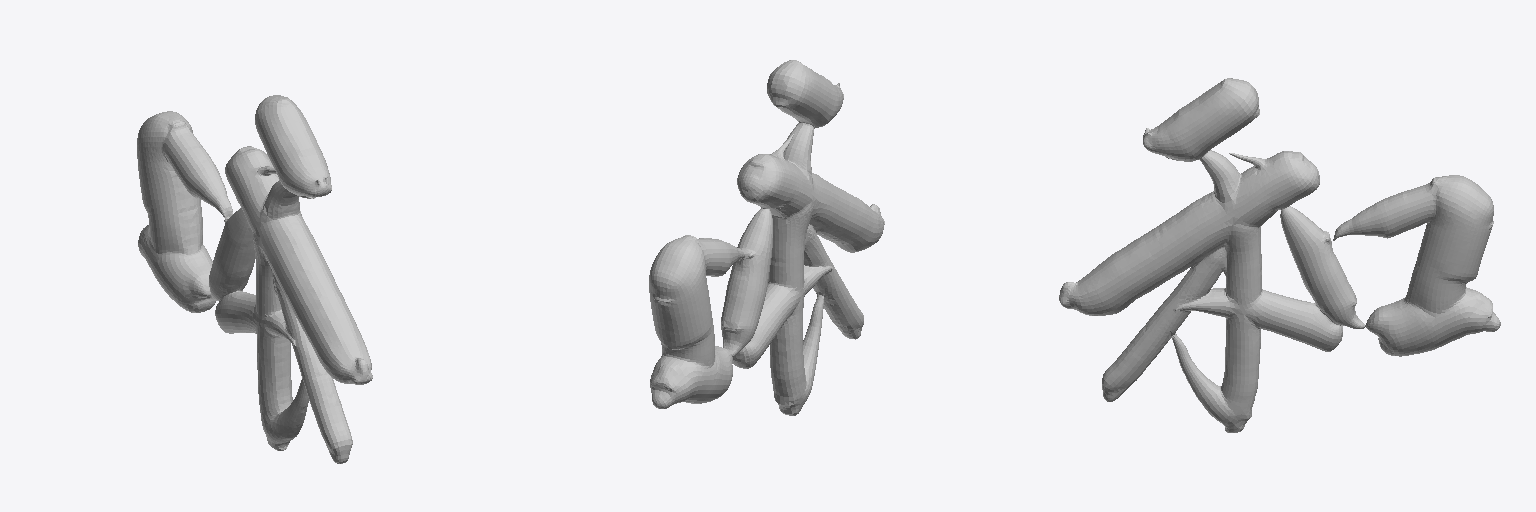
The picture shows the model from 3 angles: view 1: azimuth 30°, elevation 25°; view 2: azimuth 150°, elevation 25°; view 3: azimuth 270°, elevation 25°; orthographic projection.
Parts seen in each view (by area): view 1: tripo_node_4e37bdf2-400b-4927-b6d2-df9018d86145; view 2: tripo_node_4e37bdf2-400b-4927-b6d2-df9018d86145; view 3: tripo_node_4e37bdf2-400b-4927-b6d2-df9018d86145.
Part boxes in pixels (x1,y1,x2,y2): tripo_node_4e37bdf2-400b-4927-b6d2-df9018d86145: (137,95,372,463); tripo_node_4e37bdf2-400b-4927-b6d2-df9018d86145: (649,60,884,415); tripo_node_4e37bdf2-400b-4927-b6d2-df9018d86145: (1059,78,1500,432).
Bounding box in the file's own units: 0.1289 × 0.8793 × 0.9997.